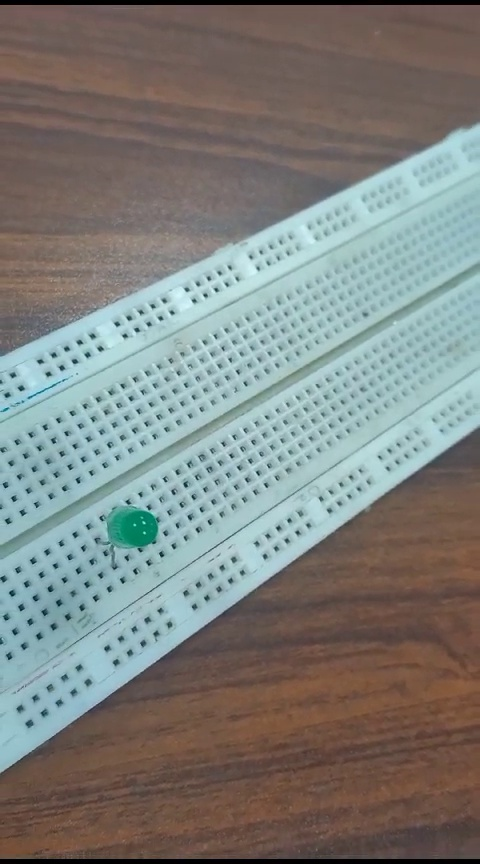LED: (96, 499, 170, 564)
